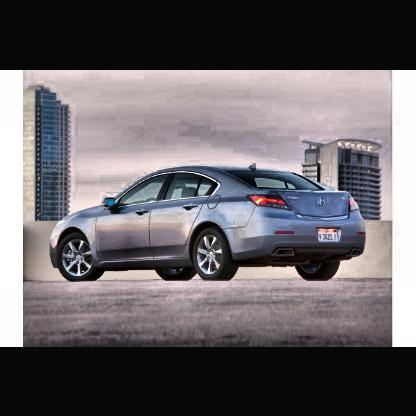Acura TL Sedan 2012: (38, 144, 377, 308)
